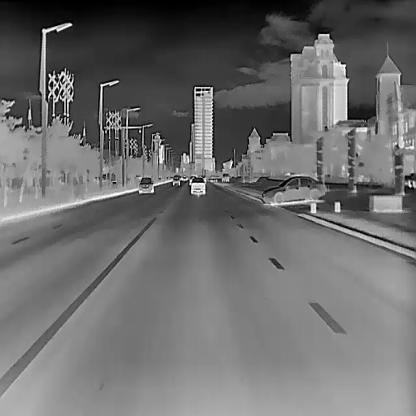car: (262, 173, 326, 206), (137, 177, 154, 193), (190, 177, 206, 194), (171, 175, 179, 185), (221, 173, 229, 182)
